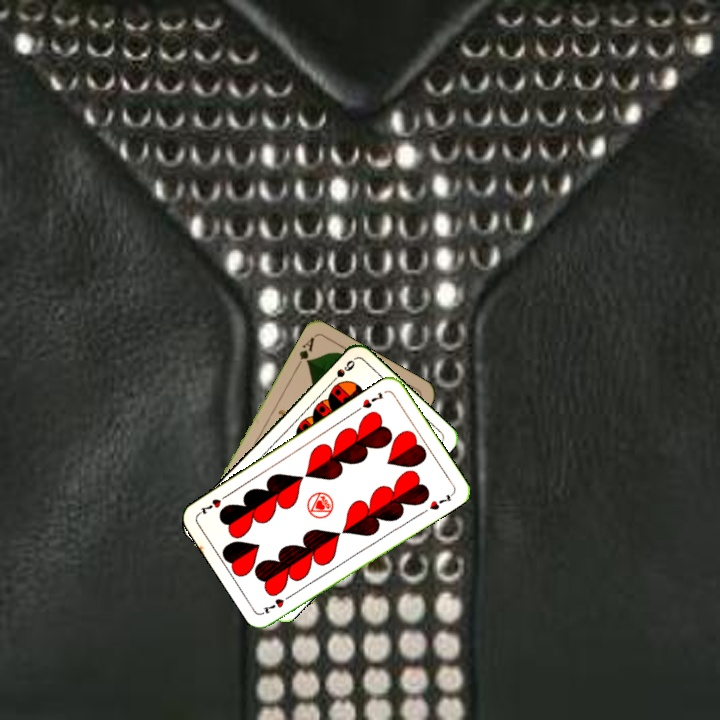GA: (292, 333, 317, 371)
H7: (259, 590, 296, 617), (358, 388, 386, 411)
S9: (325, 356, 358, 388)
